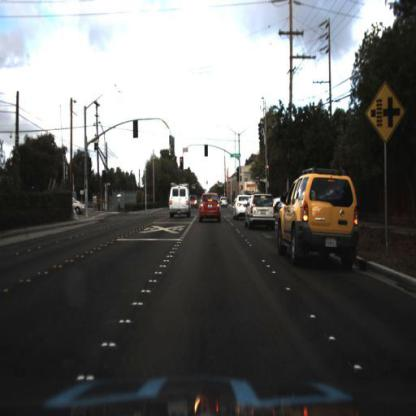car: (278, 169, 361, 267), (193, 189, 227, 226), (247, 190, 276, 233), (166, 182, 192, 218), (68, 196, 86, 216), (234, 192, 246, 222), (188, 190, 200, 212)
trafficLight: (204, 138, 210, 159), (178, 153, 185, 169)
trafficLight-Red: (239, 168, 244, 186)
